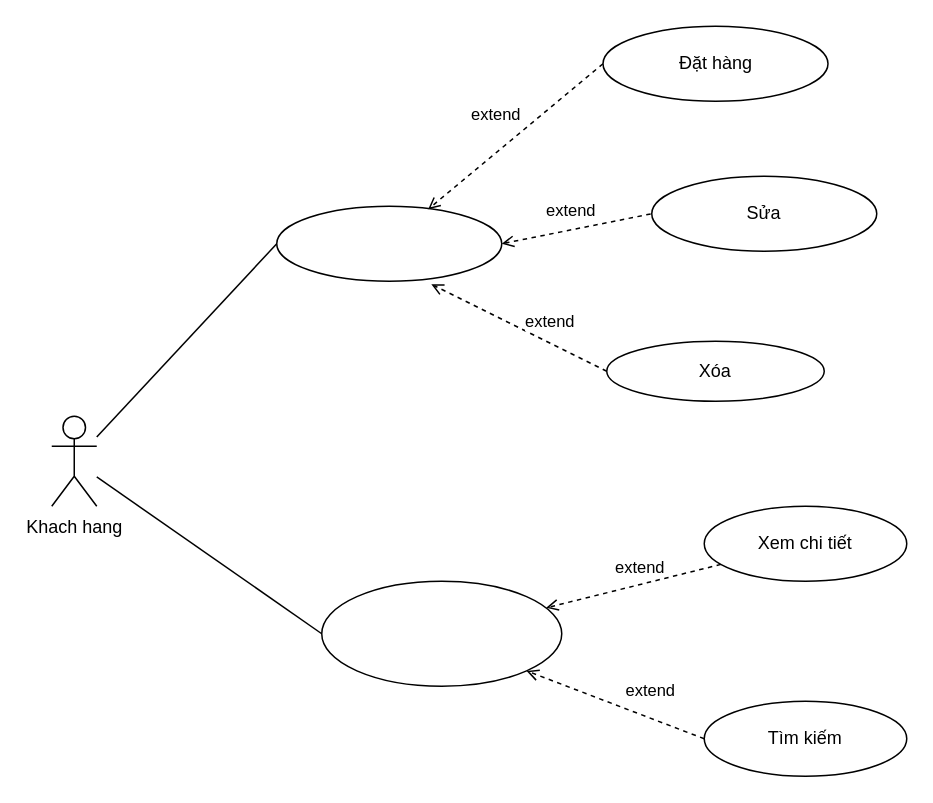
This 933x803 diagram has some shape labels left out. The centre of each missing label's shape, as x and y in pixels:
"Quản lý giỏ hàng" goes at [388,243].
"Xem danh sách sản phẩm" goes at [441,633].
